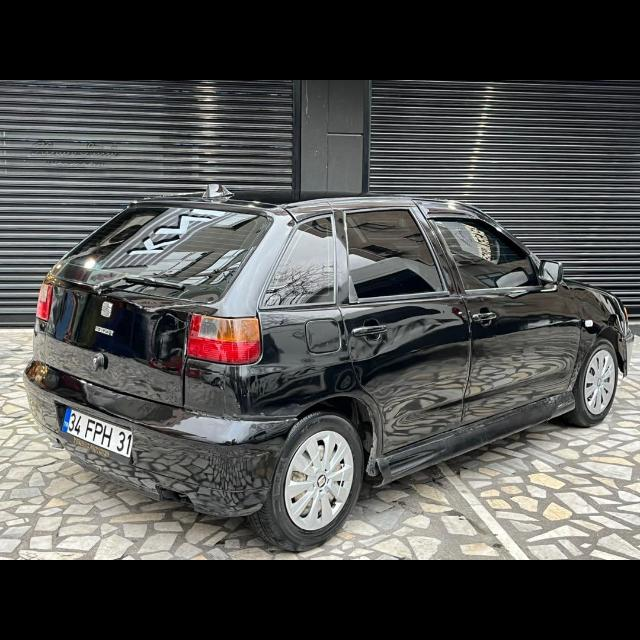Plaka: (59, 406, 132, 458)
